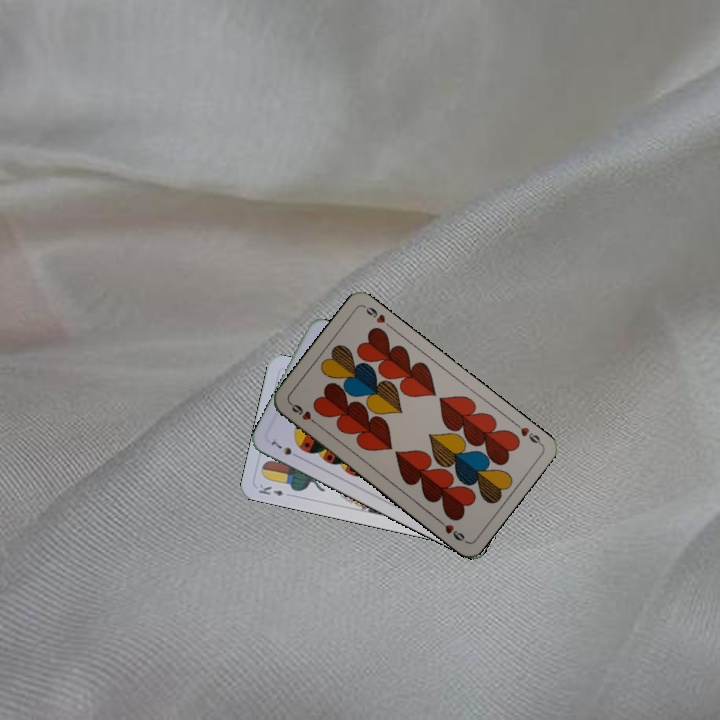EK: (255, 480, 286, 499)
H9: (286, 398, 321, 427), (510, 418, 544, 447)
S7: (267, 437, 303, 461)
